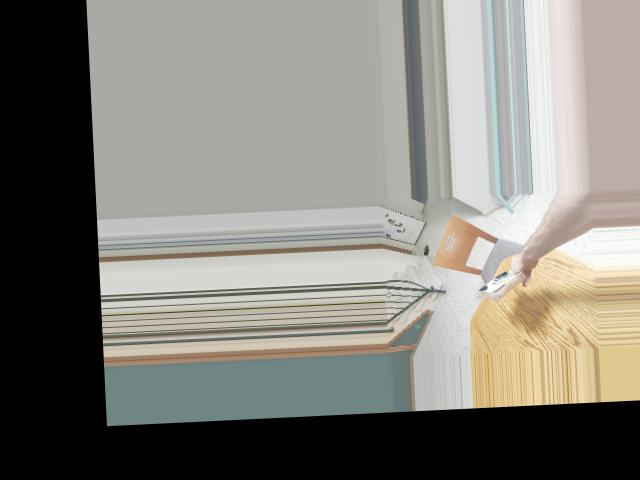cheese: (477, 265, 528, 302)
